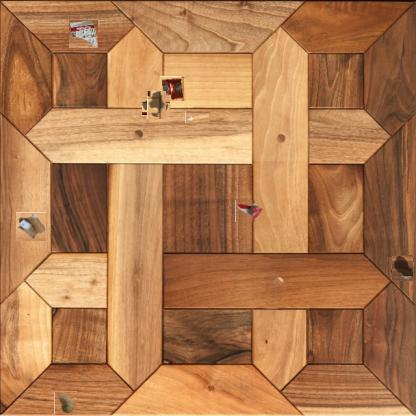dirty: (17, 212, 46, 242), (70, 20, 100, 48), (160, 76, 186, 101), (235, 200, 264, 222), (54, 391, 77, 415), (185, 111, 210, 123)
liquid: (390, 256, 414, 280), (145, 94, 168, 117)
